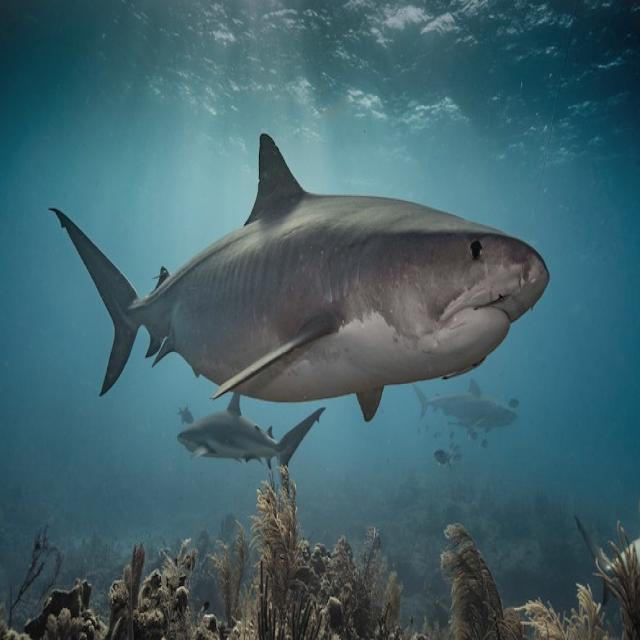shark: (52, 133, 550, 420), (178, 394, 325, 467), (415, 380, 518, 438)
